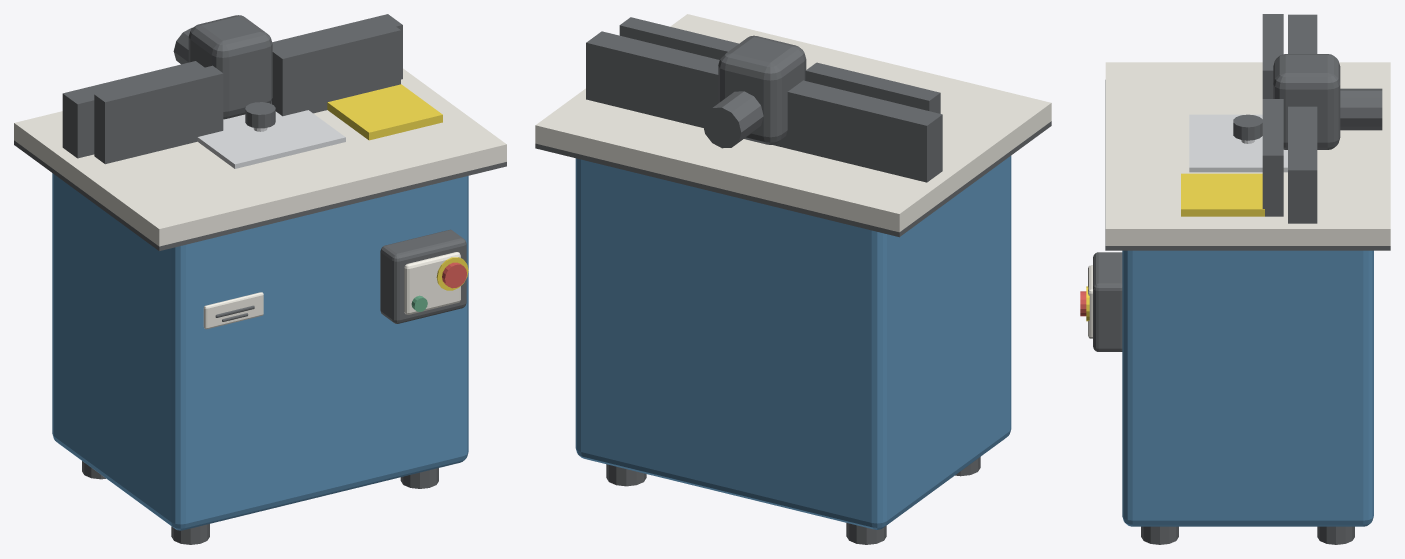
The model's file is woodworking-workshop-and-joinery-woodworking-workshop--bc21dc40__34250.glb.
The picture shows the model from 3 angles, left to right: view 1: azimuth 30°, elevation 25°; view 2: azimuth 150°, elevation 25°; view 3: azimuth 270°, elevation 25°; orthographic projection. The views are drawn at different scales.
Parts seen in each view (by area): view 1: woodworking-workshop-and-joinery-router-table, cutter-spin/charcoal; view 2: woodworking-workshop-and-joinery-router-table; view 3: woodworking-workshop-and-joinery-router-table, cutter-spin/charcoal.
Part boxes in pixels (left/top/right/bottom): woodworking-workshop-and-joinery-router-table: left=14, top=14, right=506, bottom=544; cutter-spin/charcoal: left=245, top=102, right=275, bottom=128; woodworking-workshop-and-joinery-router-table: left=535, top=14, right=1051, bottom=544; woodworking-workshop-and-joinery-router-table: left=1080, top=14, right=1390, bottom=544; cutter-spin/charcoal: left=1233, top=114, right=1262, bottom=140.
Size of the model in its own units: 0.9401 by 1.1 by 0.74.
